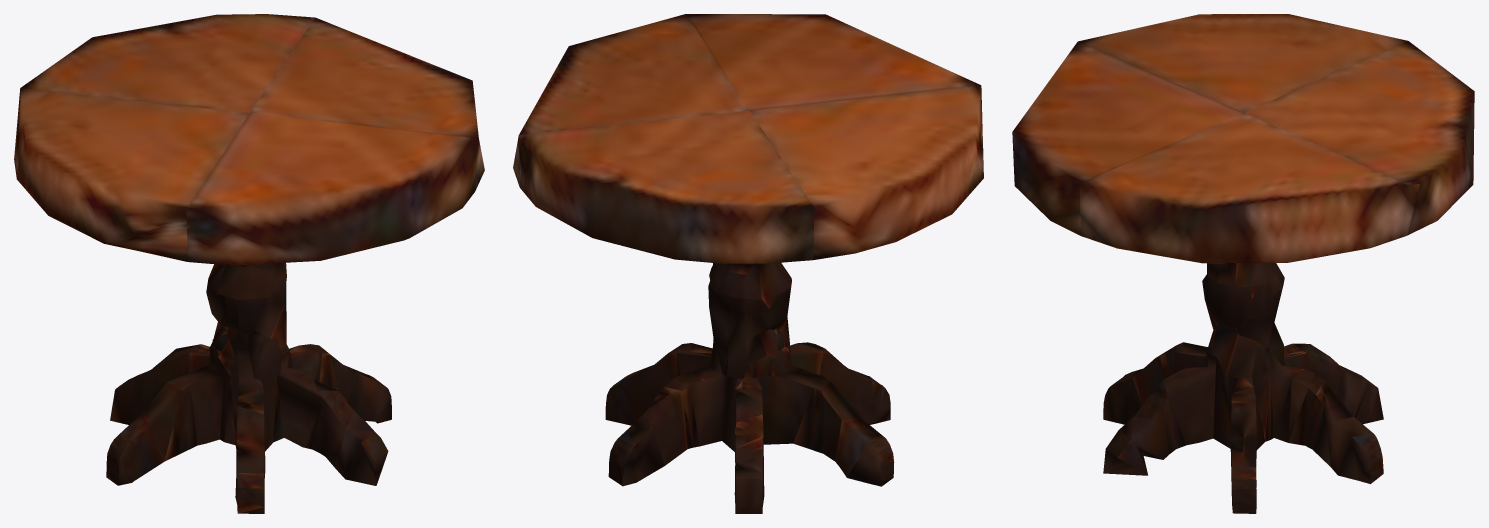
File: round-table.lod2.glb
3 renders of one model, left to right at view 1: azimuth 30°, elevation 25°; view 2: azimuth 150°, elevation 25°; view 3: azimuth 270°, elevation 25°, orthographic.
Size of the model in its own units: 0.9477 by 0.758 by 0.9455.
Materials: 1 (1 with a texture image).
